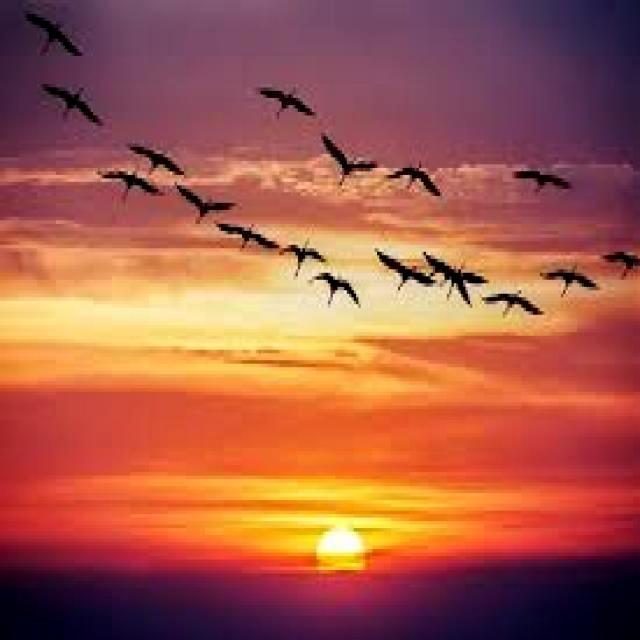bird: (40, 63, 110, 144), (477, 268, 552, 342), (19, 0, 94, 73), (378, 232, 439, 320), (418, 236, 486, 299), (91, 159, 163, 215), (133, 122, 194, 186), (204, 224, 282, 273), (256, 73, 326, 126), (319, 128, 382, 184), (382, 156, 452, 204), (277, 213, 326, 280), (172, 184, 238, 232), (546, 254, 611, 302), (306, 256, 360, 312), (514, 153, 577, 200), (600, 248, 640, 282)
